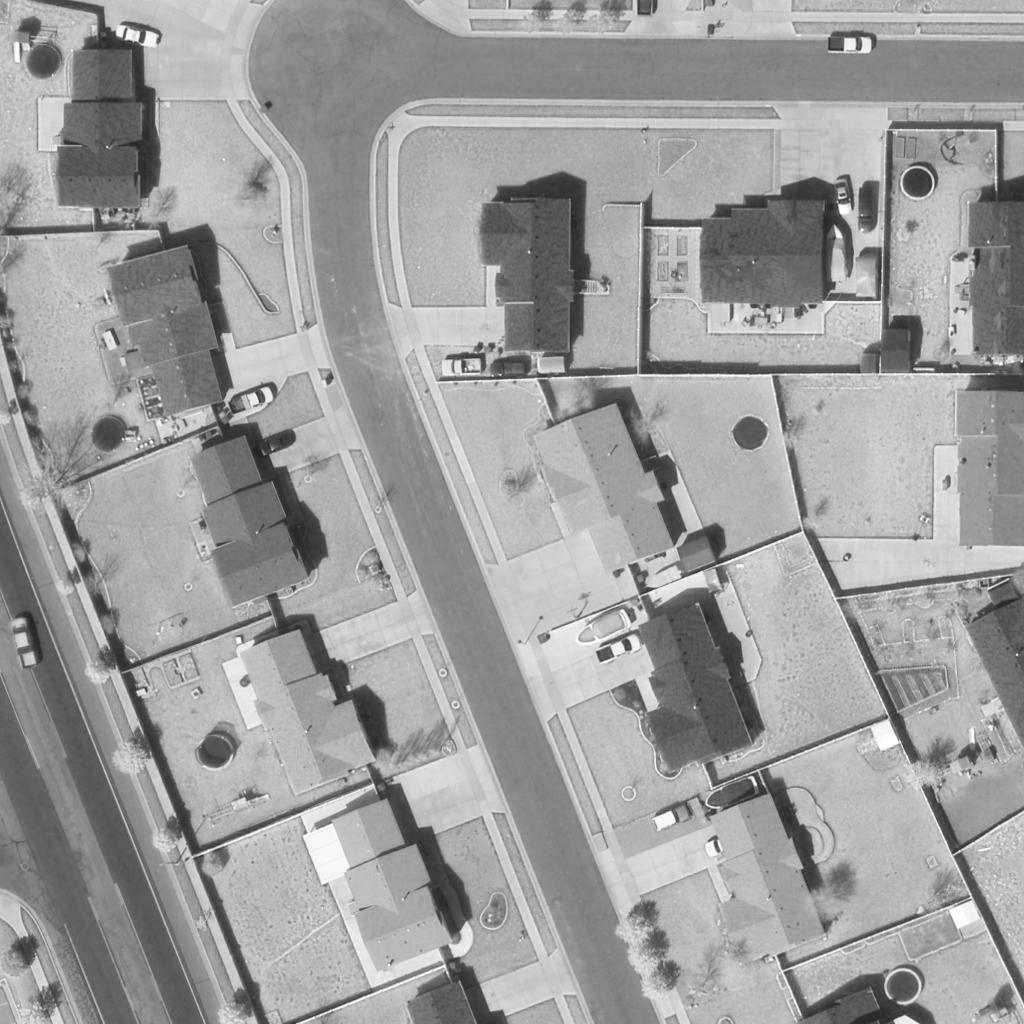vehicle: (571, 608, 633, 650), (701, 775, 763, 815), (9, 616, 41, 674), (226, 386, 278, 416), (825, 224, 851, 284), (113, 21, 163, 51), (250, 428, 300, 458), (593, 635, 643, 665), (647, 804, 693, 832), (702, 830, 746, 858), (854, 253, 878, 301), (827, 37, 877, 55), (858, 188, 876, 238), (833, 176, 855, 216), (439, 361, 483, 377), (490, 362, 528, 378)
